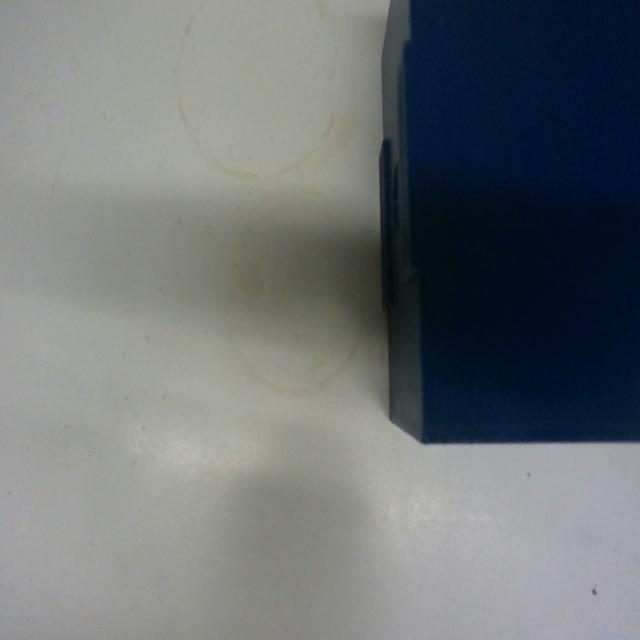Blue Cuboid: (376, 0, 639, 447)
